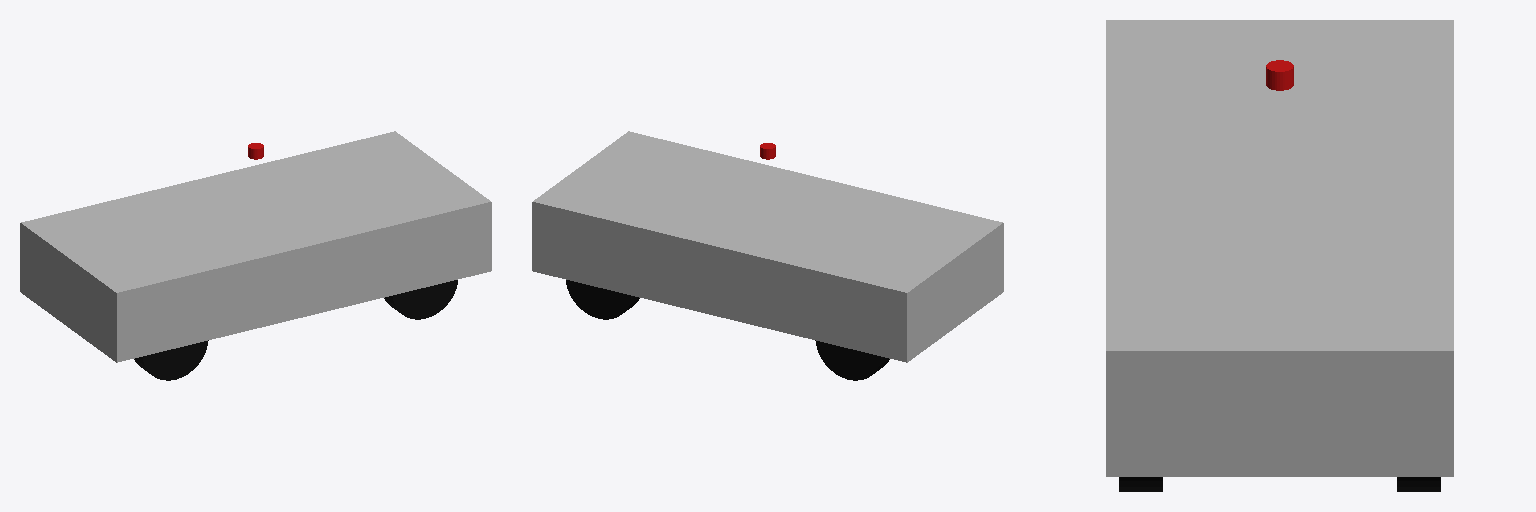
URDF robot description (super_car):
<?xml version="1.0"?>
<!--
  super_car.urdf — Complete rewrite

  PURPOSE: This file is used ONLY by robot_state_publisher to provide
  /tf transforms (base_link → lidar_link, base_link → wheel links).
  It does NOT spawn anything in Gazebo — the SDF world does that.

  FIX: Original URDF had Gazebo <plugin> blocks inside it. When loaded
  via robot_state_publisher those plugin blocks are ignored but they
  caused the URDF parser to warn, and joint_state_publisher_gui to
  fail because inertia/collision were missing on wheel links.

  This clean URDF has:
    - Proper inertia on every link (required for joint states)
    - No Gazebo plugin blocks (they live in the SDF)
    - Frame names that EXACTLY match what the SDF publishes
-->
<robot name="super_car">
  <!-- ══════════ BASE LINK ══════════ -->
  <link name="base_link">
    <inertial>
      <mass value="800.0"/>
      <origin xyz="0 0 0.4" rpy="0 0 0"/>
      <inertia ixx="200" ixy="0" ixz="0" iyy="800" iyz="0" izz="900"/>
    </inertial>
    <visual>
      <origin xyz="0 0 0.4" rpy="0 0 0"/>
      <geometry>
        <box size="4.5 2.0 0.8"/>
      </geometry>
      <material name="silver">
        <color rgba="0.75 0.75 0.75 1.0"/>
      </material>
    </visual>
    <collision>
      <origin xyz="0 0 0.4" rpy="0 0 0"/>
      <geometry>
        <box size="4.5 2.0 0.8"/>
      </geometry>
    </collision>
  </link>

  <!-- ══════════ FRONT-LEFT STEERING ══════════ -->
  <link name="fl_steering_link">
    <inertial>
      <mass value="0.1"/>
      <inertia ixx="0.001" ixy="0" ixz="0" iyy="0.001" iyz="0" izz="0.001"/>
    </inertial>
  </link>
  <joint name="fl_steer_j" type="revolute">
    <parent link="base_link"/>
    <child link="fl_steering_link"/>
    <origin xyz="1.5 0.8 0" rpy="0 0 0"/>
    <axis xyz="0 0 1"/>
    <limit lower="-0.6" upper="0.6" effort="100" velocity="10"/>
  </joint>

  <!-- ══════════ FRONT-RIGHT STEERING ══════════ -->
  <link name="fr_steering_link">
    <inertial>
      <mass value="0.1"/>
      <inertia ixx="0.001" ixy="0" ixz="0" iyy="0.001" iyz="0" izz="0.001"/>
    </inertial>
  </link>
  <joint name="fr_steer_j" type="revolute">
    <parent link="base_link"/>
    <child link="fr_steering_link"/>
    <origin xyz="1.5 -0.8 0" rpy="0 0 0"/>
    <axis xyz="0 0 1"/>
    <limit lower="-0.6" upper="0.6" effort="100" velocity="10"/>
  </joint>

  <!-- ══════════ FRONT-LEFT WHEEL ══════════ -->
  <link name="fl_wheel">
    <inertial>
      <mass value="15.0"/>
      <inertia ixx="0.4" ixy="0" ixz="0" iyy="0.7" iyz="0" izz="0.4"/>
    </inertial>
    <visual>
      <origin xyz="0 0 0" rpy="1.5708 0 0"/>
      <geometry>
        <cylinder radius="0.4" length="0.25"/>
      </geometry>
      <material name="black">
        <color rgba="0.1 0.1 0.1 1"/>
      </material>
    </visual>
    <collision>
      <origin xyz="0 0 0" rpy="1.5708 0 0"/>
      <geometry>
        <cylinder radius="0.4" length="0.25"/>
      </geometry>
    </collision>
  </link>
  <joint name="fl_j" type="continuous">
    <parent link="fl_steering_link"/>
    <child link="fl_wheel"/>
    <origin xyz="0 0 0" rpy="0 0 0"/>
    <axis xyz="0 1 0"/>
  </joint>

  <!-- ══════════ FRONT-RIGHT WHEEL ══════════ -->
  <link name="fr_wheel">
    <inertial>
      <mass value="15.0"/>
      <inertia ixx="0.4" ixy="0" ixz="0" iyy="0.7" iyz="0" izz="0.4"/>
    </inertial>
    <visual>
      <origin xyz="0 0 0" rpy="1.5708 0 0"/>
      <geometry>
        <cylinder radius="0.4" length="0.25"/>
      </geometry>
      <material name="black"/>
    </visual>
    <collision>
      <origin xyz="0 0 0" rpy="1.5708 0 0"/>
      <geometry>
        <cylinder radius="0.4" length="0.25"/>
      </geometry>
    </collision>
  </link>
  <joint name="fr_j" type="continuous">
    <parent link="fr_steering_link"/>
    <child link="fr_wheel"/>
    <origin xyz="0 0 0" rpy="0 0 0"/>
    <axis xyz="0 1 0"/>
  </joint>

  <!-- ══════════ REAR-LEFT WHEEL ══════════ -->
  <link name="rl_wheel">
    <inertial>
      <mass value="15.0"/>
      <inertia ixx="0.4" ixy="0" ixz="0" iyy="0.7" iyz="0" izz="0.4"/>
    </inertial>
    <visual>
      <origin xyz="0 0 0" rpy="1.5708 0 0"/>
      <geometry>
        <cylinder radius="0.4" length="0.25"/>
      </geometry>
      <material name="black"/>
    </visual>
    <collision>
      <origin xyz="0 0 0" rpy="1.5708 0 0"/>
      <geometry>
        <cylinder radius="0.4" length="0.25"/>
      </geometry>
    </collision>
  </link>
  <joint name="rl_j" type="continuous">
    <parent link="base_link"/>
    <child link="rl_wheel"/>
    <origin xyz="-1.5 0.8 0" rpy="0 0 0"/>
    <axis xyz="0 1 0"/>
  </joint>

  <!-- ══════════ REAR-RIGHT WHEEL ══════════ -->
  <link name="rr_wheel">
    <inertial>
      <mass value="15.0"/>
      <inertia ixx="0.4" ixy="0" ixz="0" iyy="0.7" iyz="0" izz="0.4"/>
    </inertial>
    <visual>
      <origin xyz="0 0 0" rpy="1.5708 0 0"/>
      <geometry>
        <cylinder radius="0.4" length="0.25"/>
      </geometry>
      <material name="black"/>
    </visual>
    <collision>
      <origin xyz="0 0 0" rpy="1.5708 0 0"/>
      <geometry>
        <cylinder radius="0.4" length="0.25"/>
      </geometry>
    </collision>
  </link>
  <joint name="rr_j" type="continuous">
    <parent link="base_link"/>
    <child link="rr_wheel"/>
    <origin xyz="-1.5 -0.8 0" rpy="0 0 0"/>
    <axis xyz="0 1 0"/>
  </joint>

  <!-- ══════════ LIDAR LINK ══════════ -->
  <link name="lidar_link">
    <inertial>
      <mass value="0.5"/>
      <inertia ixx="0.001" ixy="0" ixz="0" iyy="0.001" iyz="0" izz="0.001"/>
    </inertial>
    <visual>
      <geometry>
        <cylinder radius="0.08" length="0.12"/>
      </geometry>
      <material name="red">
        <color rgba="0.8 0.1 0.1 1"/>
      </material>
    </visual>
  </link>
  <joint name="lidar_joint" type="fixed">
    <parent link="base_link"/>
    <child link="lidar_link"/>
    <origin xyz="0 0 1.5" rpy="0 0 0"/>
  </joint>
</robot>

--- Facts derived from the render (not from the file) ---
Views: 3 orthographic renders of the robot side by side, from view 1: azimuth 30°, elevation 25°; view 2: azimuth 150°, elevation 25°; view 3: azimuth 270°, elevation 25°.
Model super_car with 8 links and 7 joints (2 revolute, 4 continuous, 1 fixed), rooted at base_link, posed all joints at 0.
Links seen in each view (by area): view 1: base_link, rr_wheel, fr_wheel; view 2: base_link, rl_wheel, fl_wheel; view 3: base_link, lidar_link, fl_wheel, fr_wheel.
Link boxes in pixels (x1,y1,x2,y2): base_link: (20,131,491,362); rr_wheel: (134,340,208,380); fr_wheel: (384,280,457,319); base_link: (532,131,1003,362); rl_wheel: (815,340,889,380); fl_wheel: (566,280,639,319); base_link: (1106,20,1453,476); lidar_link: (1266,60,1293,90); fl_wheel: (1397,477,1440,491); fr_wheel: (1119,477,1162,491).
Size in the robot's own frame: 4.5 by 2 by 1.96 metres.
Geometry: primitives only (box / cylinder / sphere), no mesh files.
